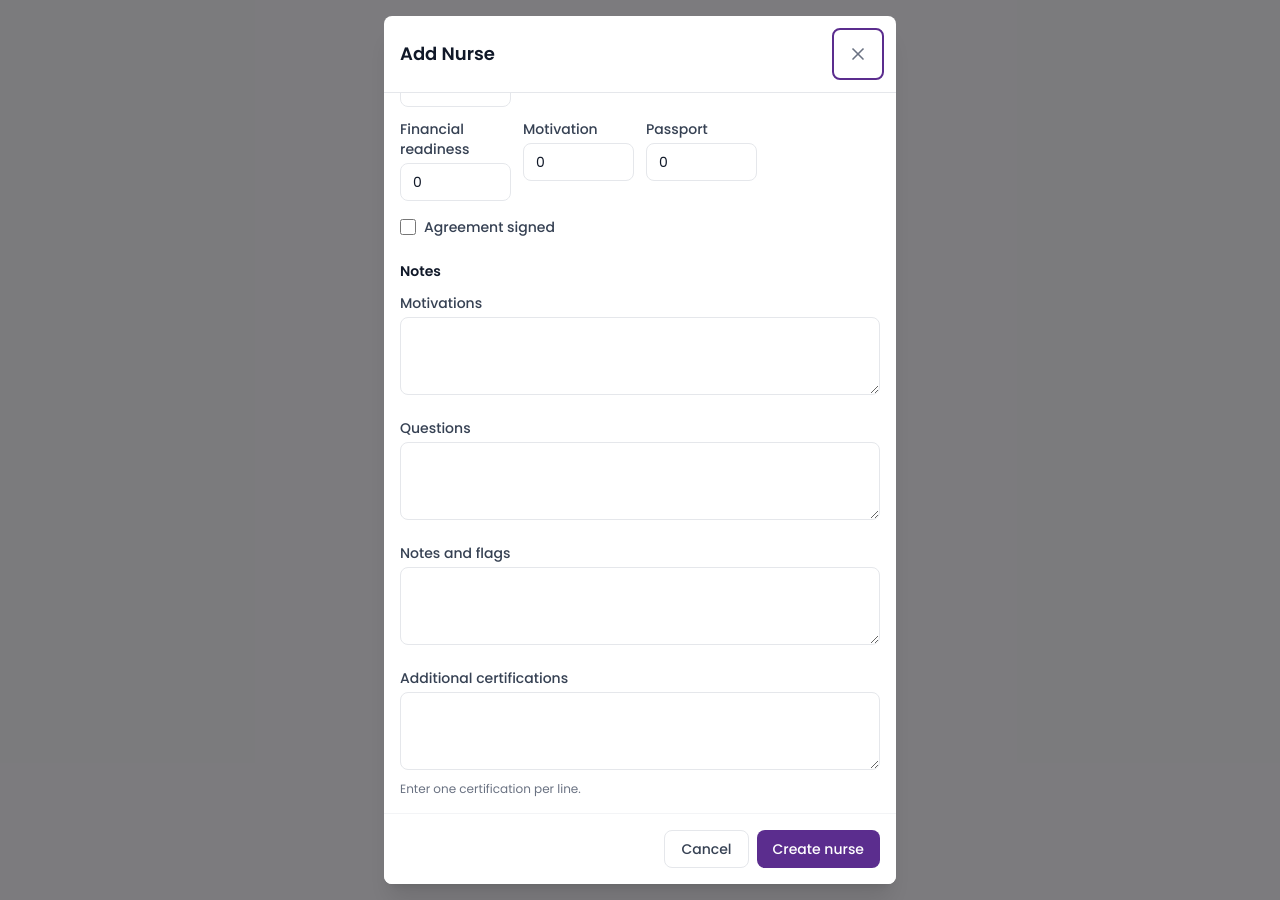
Scenario: NurseCreateModal › reports inline validation and focuses the first invalid field without submitting
The image size is (1280, 900).
(page scrolled)
What coordinates should you click on to do the following:
click the button "Create nurse"
I would click on:
 (818, 849)
Its box is [756,830,880,868].
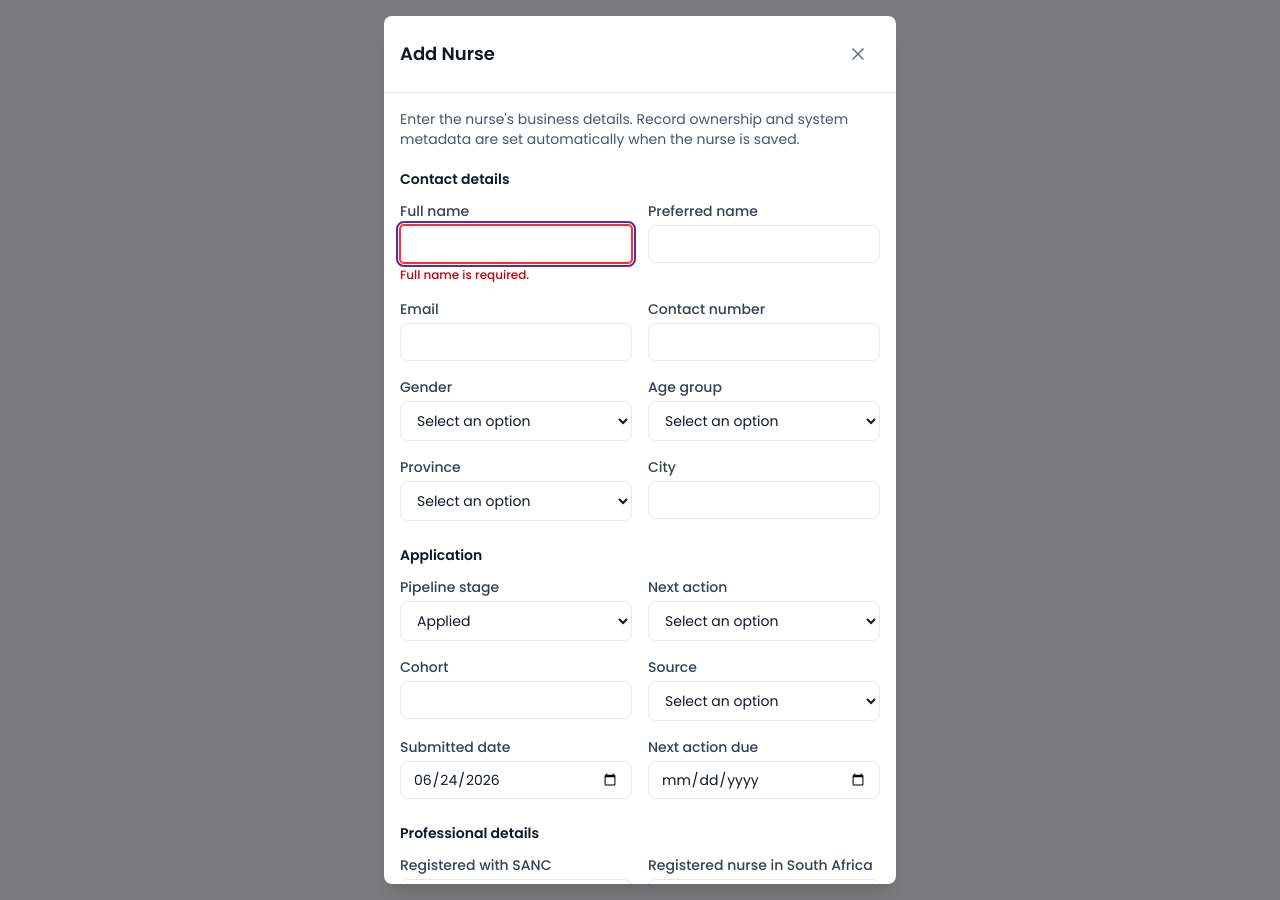
Now the text "Full name is required." is shown, box [400,266,529,283]
